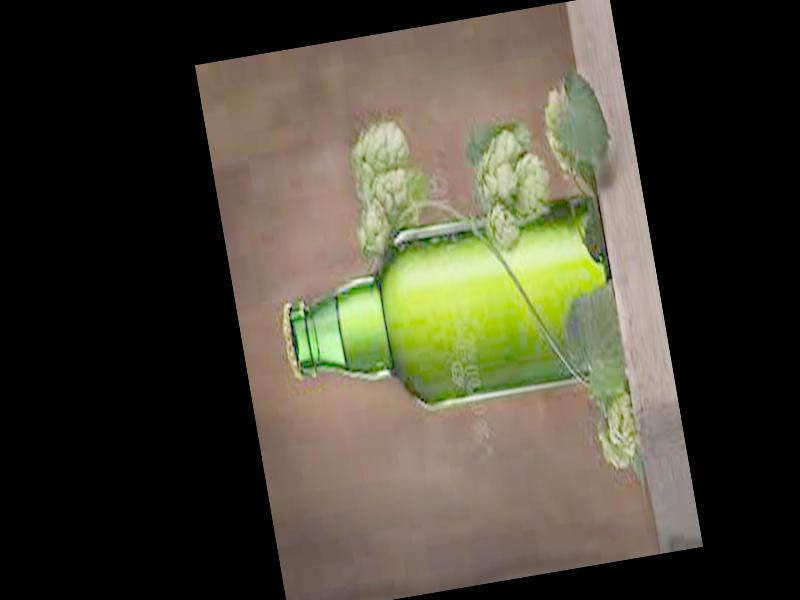Beer: (269, 200, 633, 432)
